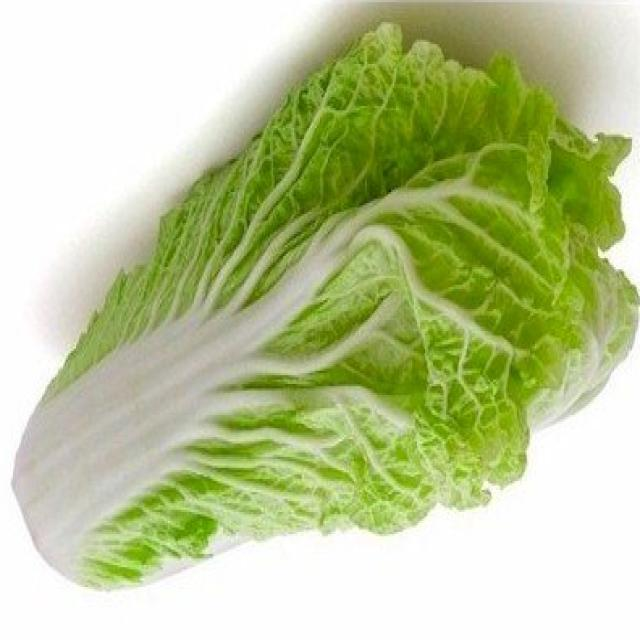cabbage: (10, 19, 640, 598)
